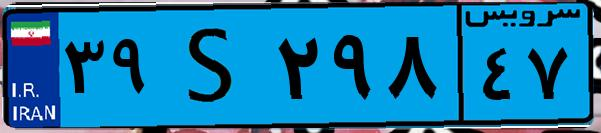2: (270, 28, 330, 110)
3: (57, 26, 110, 100)
4: (475, 38, 525, 113)
7: (525, 38, 570, 115)
8: (385, 28, 445, 110)
9: (330, 28, 385, 110), (110, 28, 158, 98)
S: (158, 12, 270, 120)
